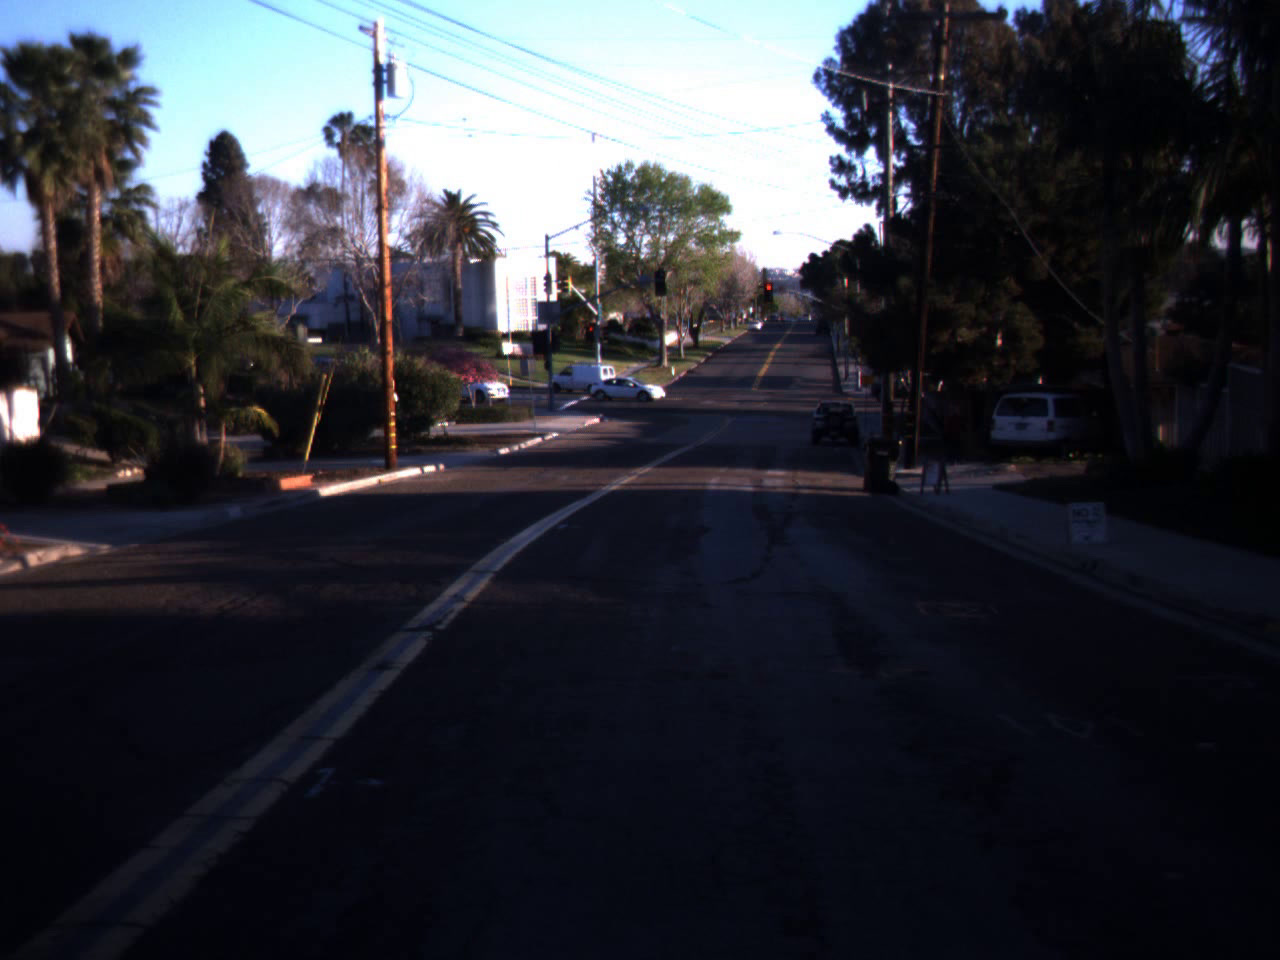stop: (762, 284, 774, 302)
